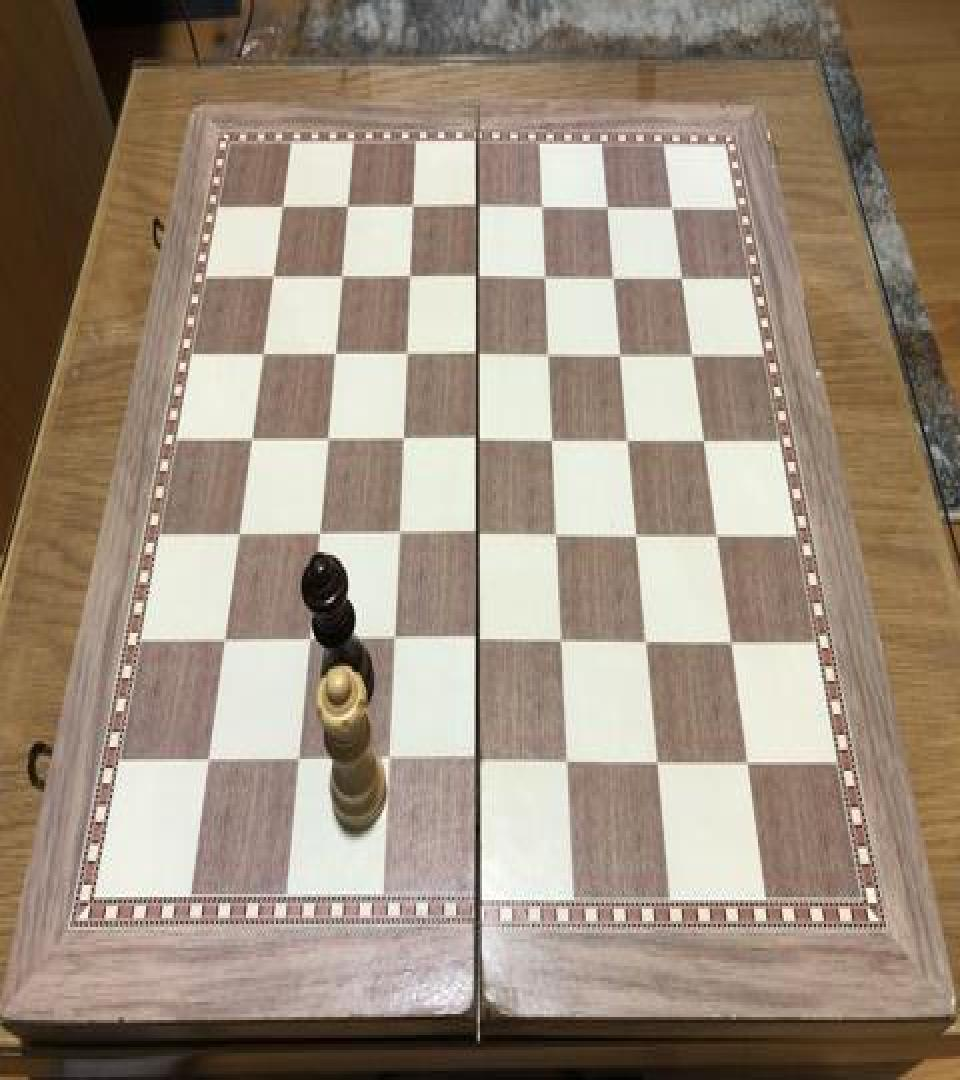xcorner: (529, 189, 553, 225), (463, 189, 487, 225), (398, 190, 422, 226), (334, 190, 358, 226), (269, 192, 293, 228), (669, 256, 693, 292), (600, 258, 624, 294), (532, 258, 556, 294), (327, 261, 351, 297), (260, 261, 284, 297), (679, 334, 703, 370), (607, 334, 631, 370), (535, 336, 559, 372), (463, 336, 487, 372), (391, 338, 415, 374), (320, 338, 344, 374), (249, 338, 273, 374), (691, 420, 715, 456), (614, 422, 638, 458), (538, 422, 562, 458), (463, 422, 487, 458), (387, 422, 411, 458), (312, 423, 336, 459), (237, 423, 261, 459), (703, 516, 727, 552), (623, 516, 647, 552), (542, 516, 566, 552), (462, 518, 486, 554), (383, 518, 407, 554), (303, 518, 327, 554), (224, 518, 248, 554), (718, 624, 742, 660), (632, 624, 656, 660), (547, 624, 571, 660), (462, 624, 486, 660), (378, 624, 402, 660), (294, 624, 318, 660), (210, 624, 234, 660), (734, 744, 758, 780), (643, 744, 667, 780), (552, 744, 576, 780), (462, 744, 486, 780), (372, 744, 396, 780), (282, 744, 306, 780), (193, 744, 217, 780), (659, 188, 683, 223), (594, 188, 618, 223), (463, 260, 487, 295), (395, 260, 419, 295)
